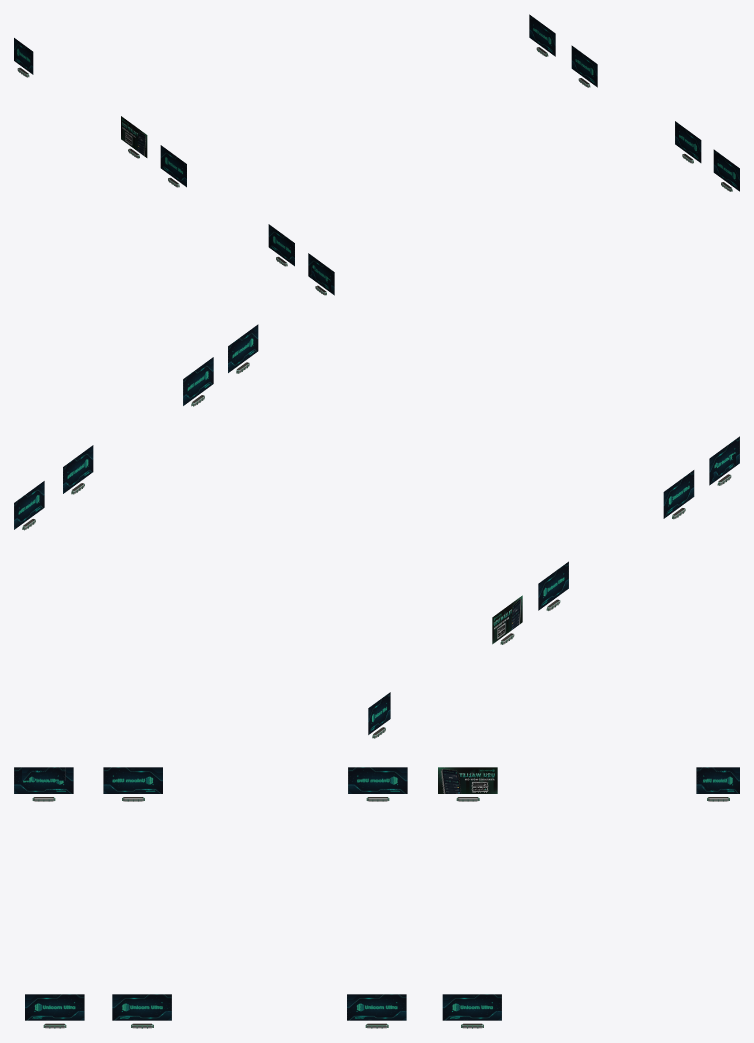
File: HoloAds.glb
The picture shows the model from 3 angles, top to bottom: view 1: azimuth 30°, elevation 25°; view 2: azimuth 150°, elevation 25°; view 3: azimuth 270°, elevation 25°; orthographic projection. The views are drawn at different scales.
Visible parts, largest first — view 1: Plane__1__1, Plane__1__7, Plane__1__2, Plane_5, Plane_1, Plane__1__4, Plane_4, Plane_2; view 2: Plane_4, Plane__1__2, Plane__1__7, Plane__1__4, Plane_5, Plane_1, Plane__1__1; view 3: Plane_5, Plane_1, Plane__1__1, Plane__1__7, Plane__1__2, Plane__1__4, Plane_4, Plane_2, Plane_3, Plane__1__3.
Part boxes in pixels (<box>): Plane__1__1: <box>713,149,739,191</box>; Plane__1__7: <box>675,121,701,162</box>; Plane__1__2: <box>160,145,186,187</box>; Plane_5: <box>121,116,147,157</box>; Plane_1: <box>571,45,597,87</box>; Plane__1__4: <box>529,14,555,56</box>; Plane_4: <box>268,224,294,266</box>; Plane_2: <box>14,38,33,74</box>; Plane_4: <box>663,470,694,518</box>; Plane__1__2: <box>538,561,568,610</box>; Plane__1__7: <box>183,357,213,405</box>; Plane__1__4: <box>14,481,44,529</box>; Plane_5: <box>492,595,522,644</box>; Plane_1: <box>63,445,93,493</box>; Plane__1__1: <box>228,324,258,372</box>; Plane_5: <box>438,767,497,793</box>; Plane_1: <box>347,994,406,1020</box>; Plane__1__1: <box>25,994,84,1020</box>; Plane__1__7: <box>112,994,171,1020</box>; Plane__1__2: <box>348,767,407,793</box>; Plane__1__4: <box>442,994,501,1020</box>; Plane_4: <box>103,767,162,793</box>; Plane_2: <box>696,767,739,793</box>; Plane_3: <box>14,767,73,793</box>; Plane__1__3: <box>22,767,65,780</box>.
Size of the model in its own units: 48.13 by 3.26 by 64.51.
3 materials, 3 textured.
